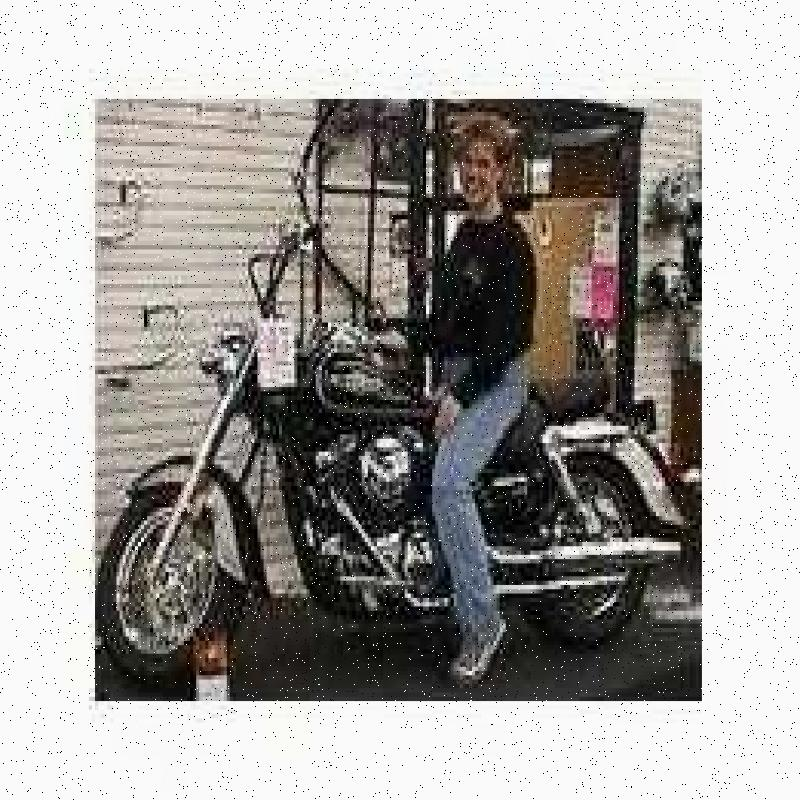bike: (91, 213, 642, 696)
